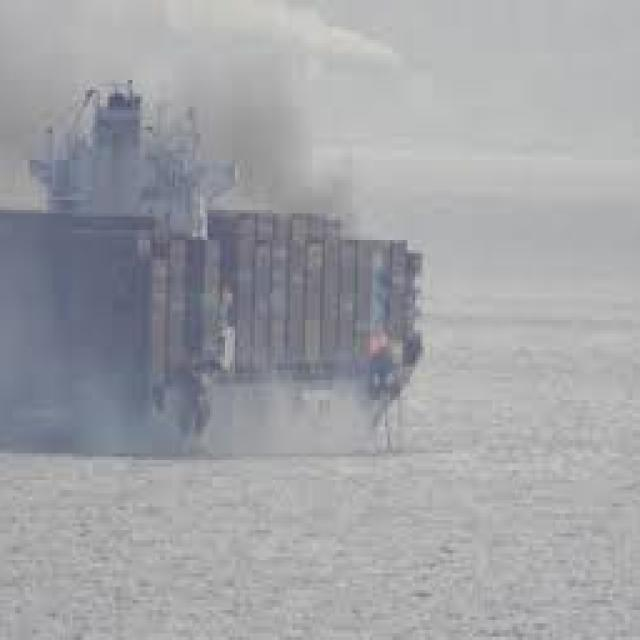cargoship: (0, 63, 430, 457)
